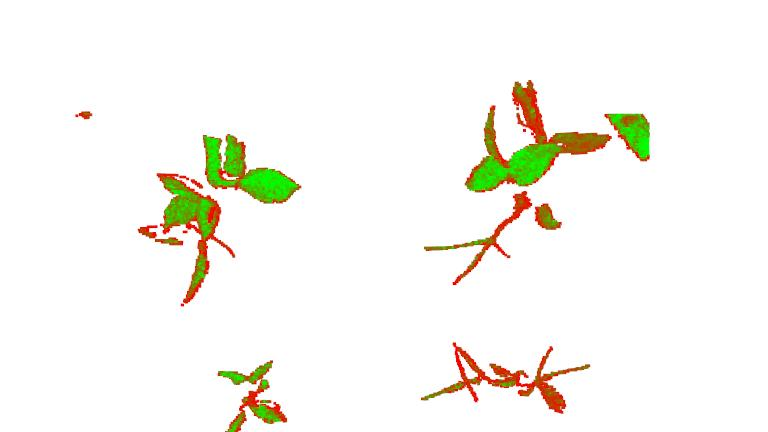mungbean: (420, 75, 614, 286), (144, 129, 300, 309), (426, 337, 596, 419), (205, 357, 289, 432)
